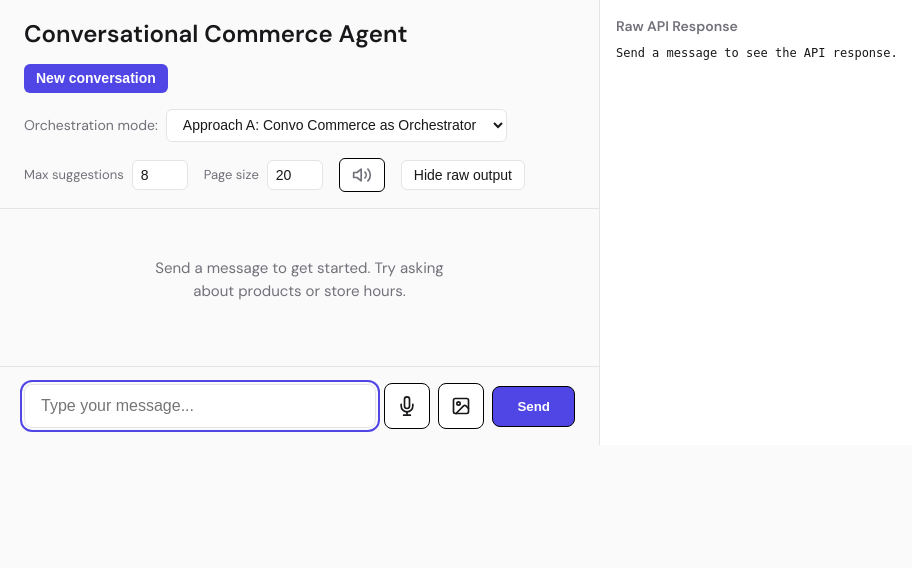
ChatInterface › dismisses error when Dismiss is clicked
Type "hi" into the field named "Chat message" at (200, 406), box [24,384,376,428]
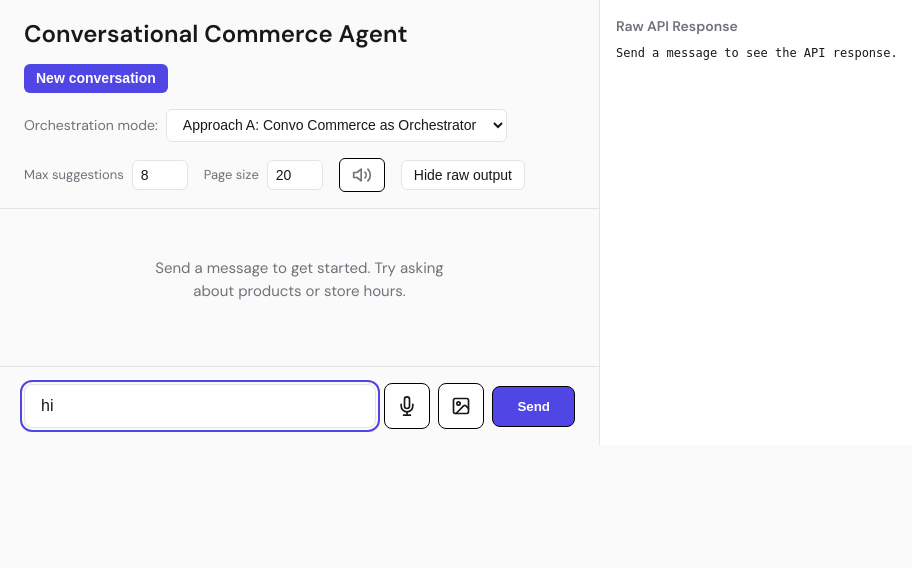
Click the button with aria-label "Send message" at (534, 406), box [492,386,575,427]
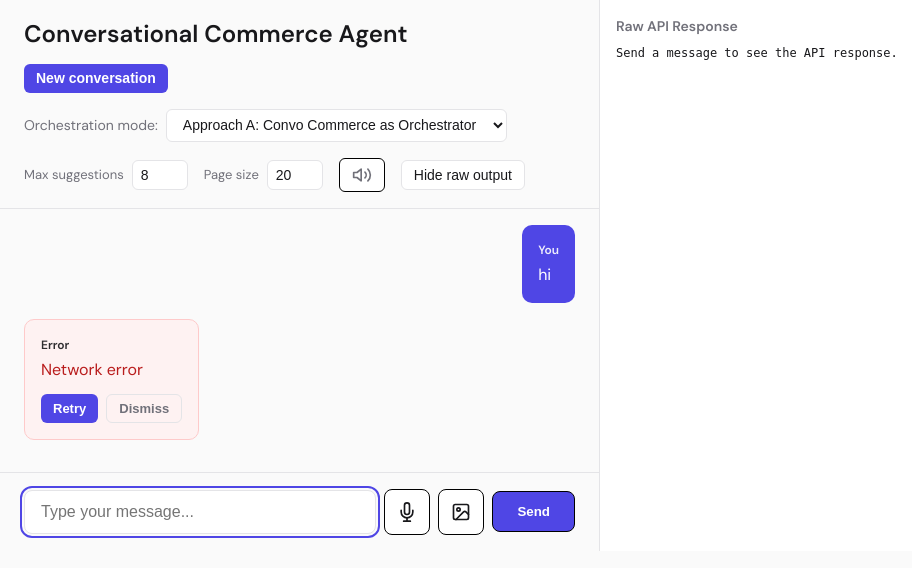
Expected: the text "Network error" is shown, [41,359,143,380]
Click the button with aria-label "Dismiss error" at (144, 408), box [106,394,182,422]
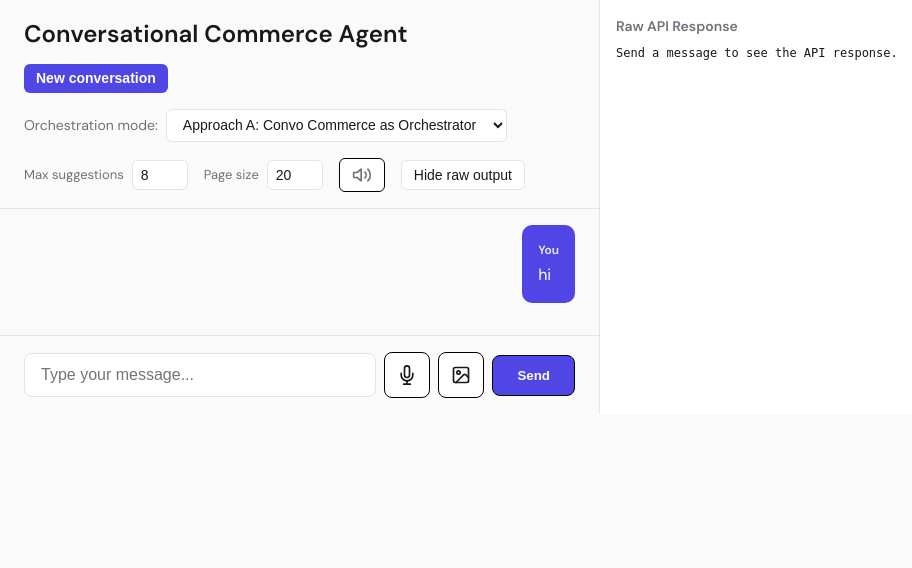
Expected: the text "hi" is shown, [538,264,551,285]
Expected: the text "Network error" is gone
